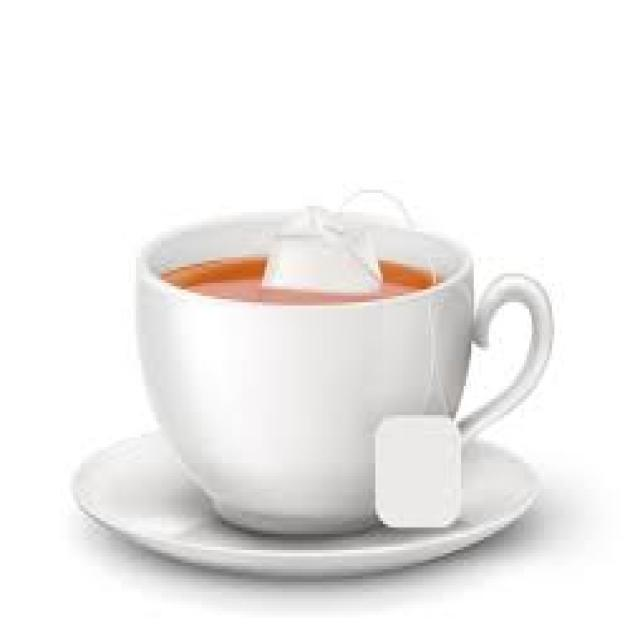taza: (115, 177, 568, 535)
